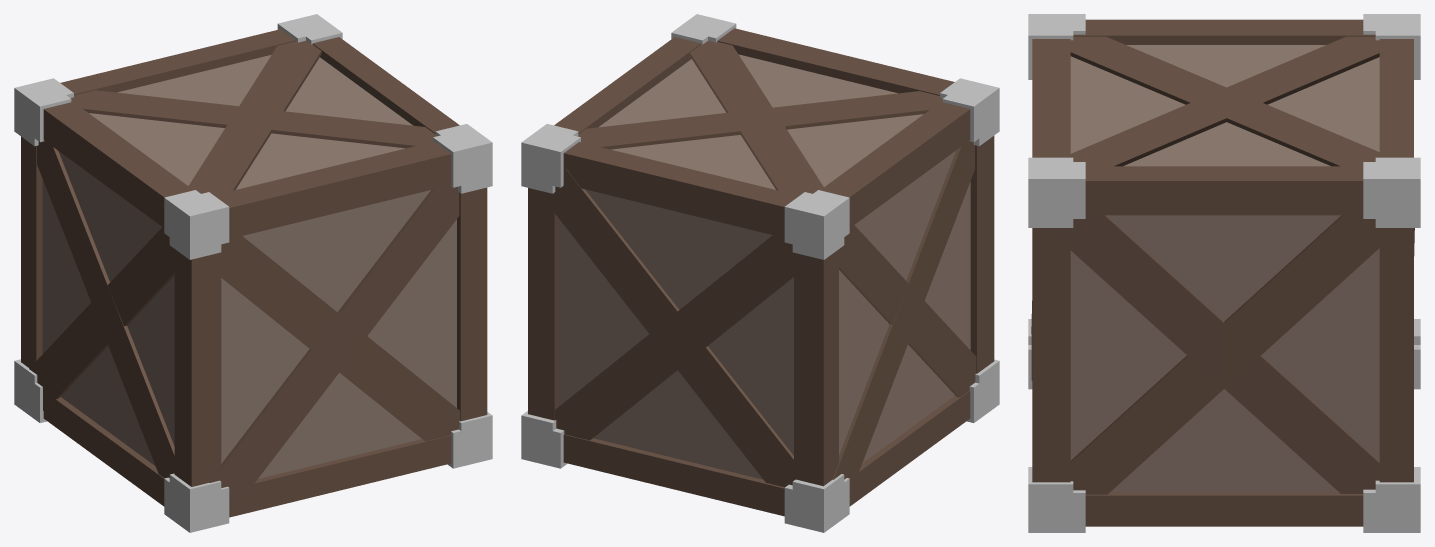
File: CaixacomFerro2.fbx
3 renders of one model, left to right at view 1: azimuth 30°, elevation 25°; view 2: azimuth 150°, elevation 25°; view 3: azimuth 270°, elevation 25°, orthographic. The views are drawn at different scales.
Parts seen in each view (by area): view 1: polySurface10, polySurface11, pCube52; view 2: polySurface10, polySurface11, pCube52; view 3: polySurface10, polySurface11, pCube52.
Boxes of the visible parts, box(x1,y1,x2,y2) form: polySurface10: box(21, 29, 487, 517); polySurface11: box(29, 40, 459, 508); pCube52: box(14, 14, 492, 532); polySurface10: box(528, 28, 994, 516); polySurface11: box(537, 40, 976, 495); pCube52: box(521, 14, 999, 532); polySurface10: box(1032, 19, 1413, 526); polySurface11: box(1031, 36, 1414, 494); pCube52: box(1028, 14, 1420, 532).
Bounding box in the file's own units: 102 × 102 × 103.
